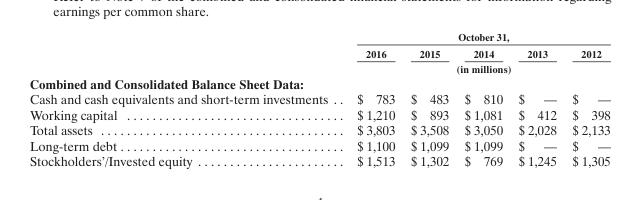table: (29, 28, 609, 168)
table column: (29, 28, 341, 168), (341, 28, 402, 168), (402, 28, 456, 168), (509, 28, 563, 168), (456, 28, 509, 168), (563, 28, 609, 168)
table column header: (29, 28, 609, 74)
table projected row header: (29, 74, 609, 90)
table row: (29, 28, 609, 44), (29, 44, 609, 60), (29, 74, 609, 90), (29, 105, 609, 121), (29, 136, 609, 152), (29, 152, 609, 168), (29, 90, 609, 105), (29, 121, 609, 136), (29, 60, 609, 74)
table spanning cell: (341, 28, 609, 44), (341, 60, 609, 74)
